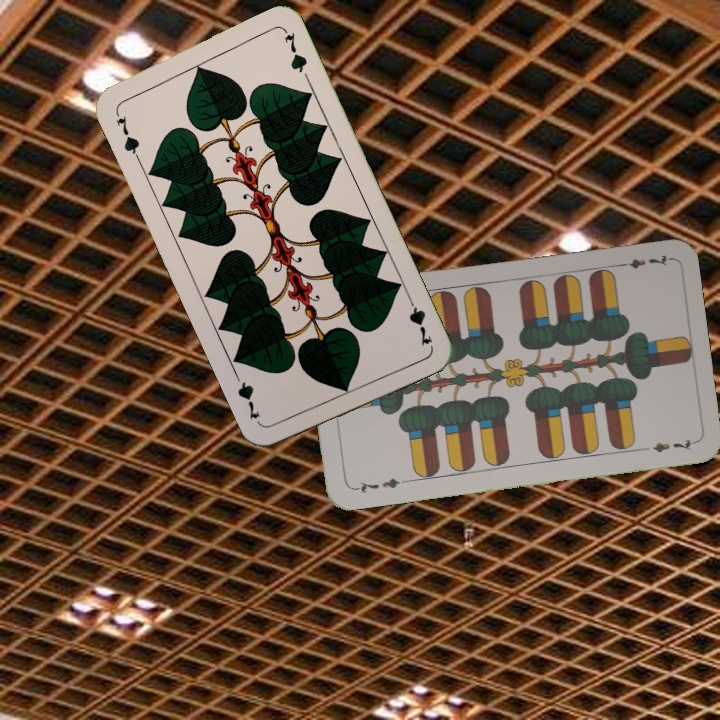E7: (350, 474, 409, 496), (613, 250, 670, 271)
G7: (403, 291, 436, 349), (111, 106, 143, 162)
